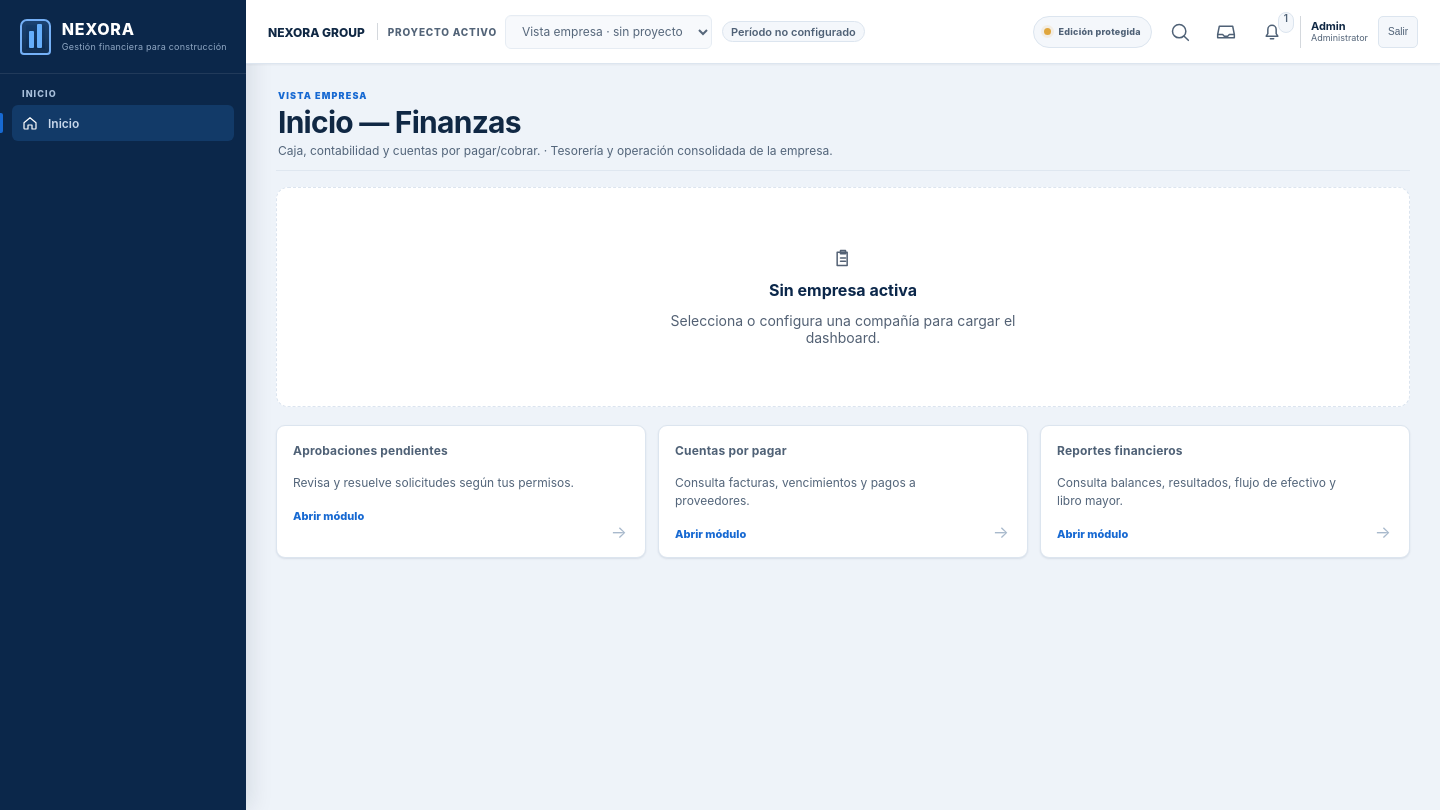
Test: NotificationBell › marks a notification as read via the real API and refetches, clearing the unread badge
The image size is (1440, 810).
Expected: the heading "Inicio — Finanzas" is shown, [278,104,521,140]
Step 1. Click the button named "notificaciones (1 sin leer)" → (1272, 32), box [1254,14,1290,50]
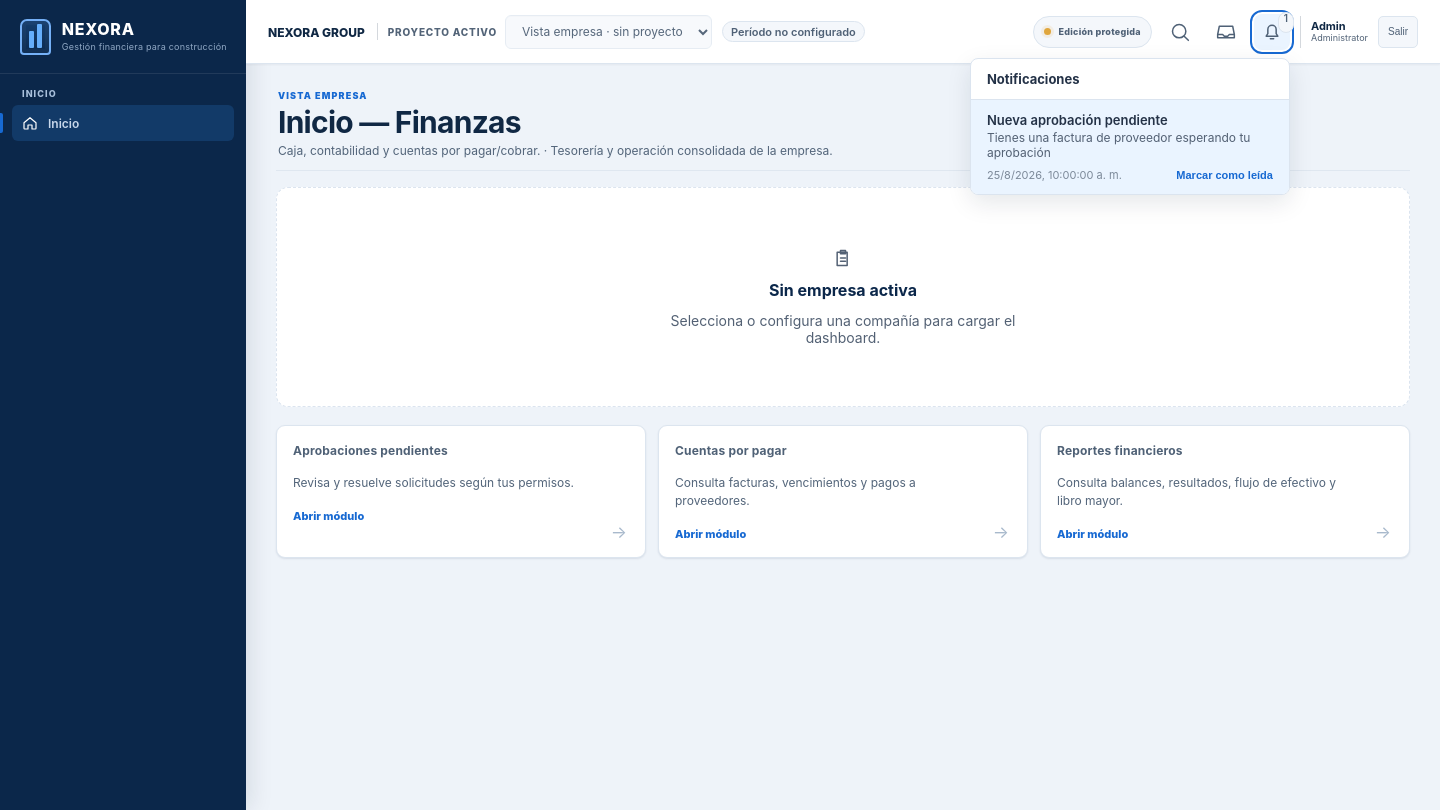
Step 2. Click the button "Marcar como leída" → (1225, 174), box [1176,168,1273,180]
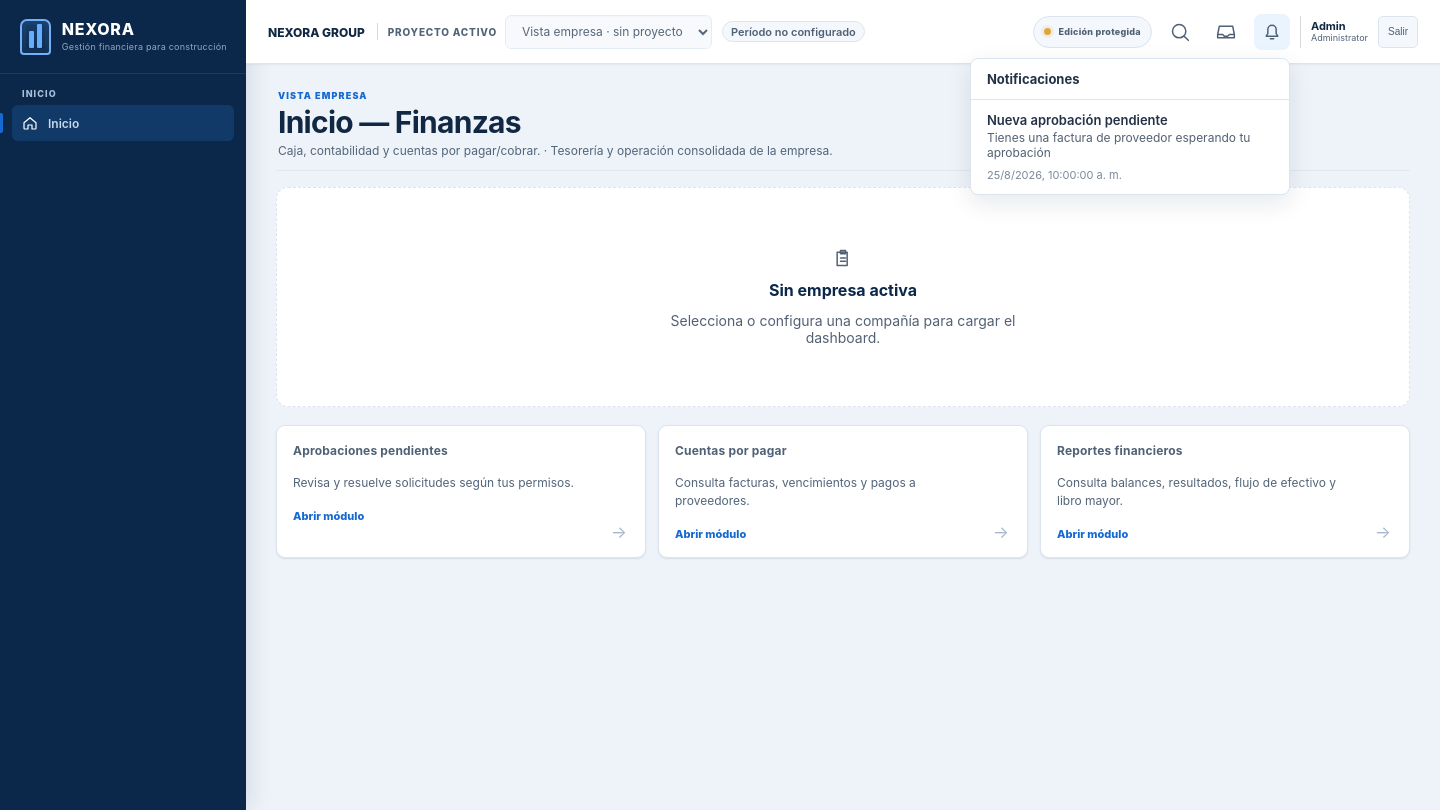
Expected: the button named "notificaciones" is shown, [1254,14,1290,50]
Expected: the button "Marcar como leída" is gone
